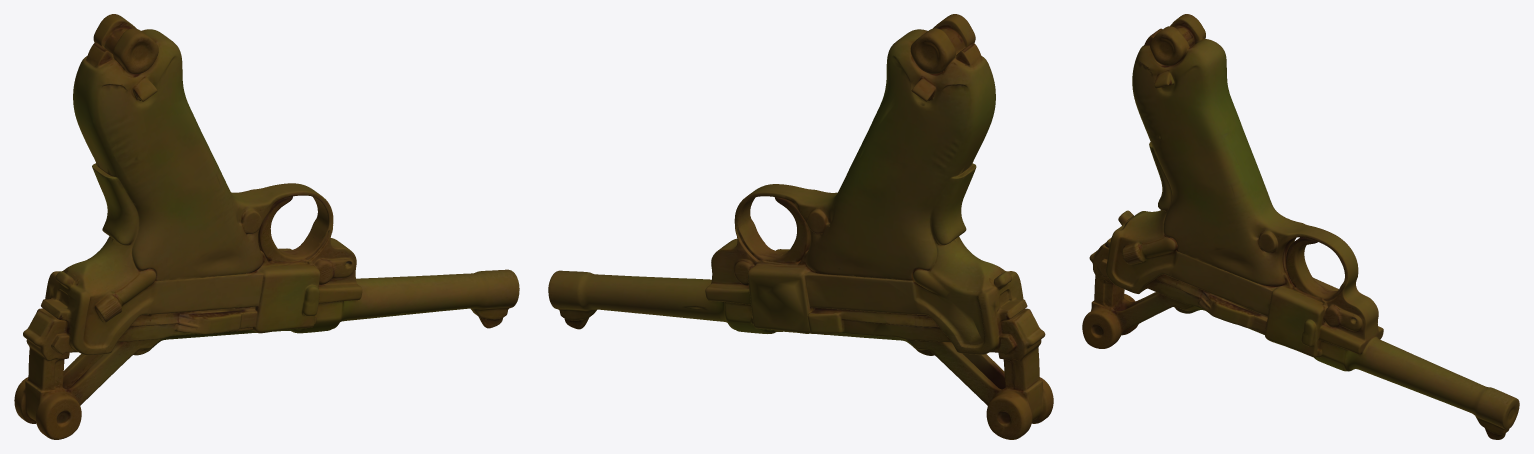
3 renders of one model, left to right at view 1: azimuth 30°, elevation 25°; view 2: azimuth 150°, elevation 25°; view 3: azimuth 330°, elevation 25°, orthographic. The views are drawn at different scales.
Visible parts, largest first — view 1: node_0; view 2: node_0; view 3: node_0.
Boxes of the visible parts, <box> form: node_0: <box>14,14,519,439</box>; node_0: <box>548,14,1053,439</box>; node_0: <box>1082,14,1519,439</box>.
Bounding box in the file's own units: 0.9815 × 0.7606 × 0.1522.
Materials: 1 (1 with a texture image).
